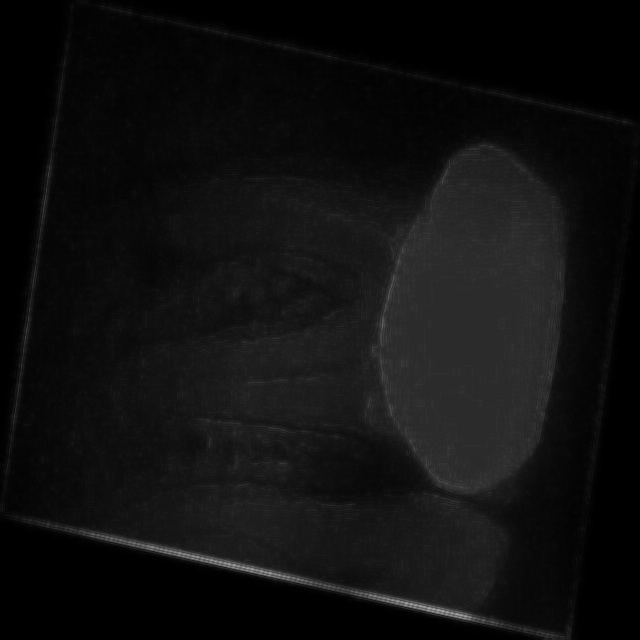Class 2- incomplete endodontic treatment: (85, 51, 590, 558)
